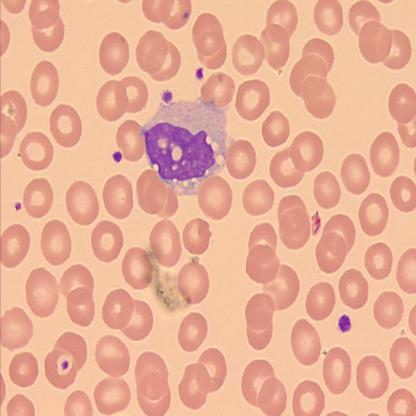Monocyte: (138, 96, 238, 199)
